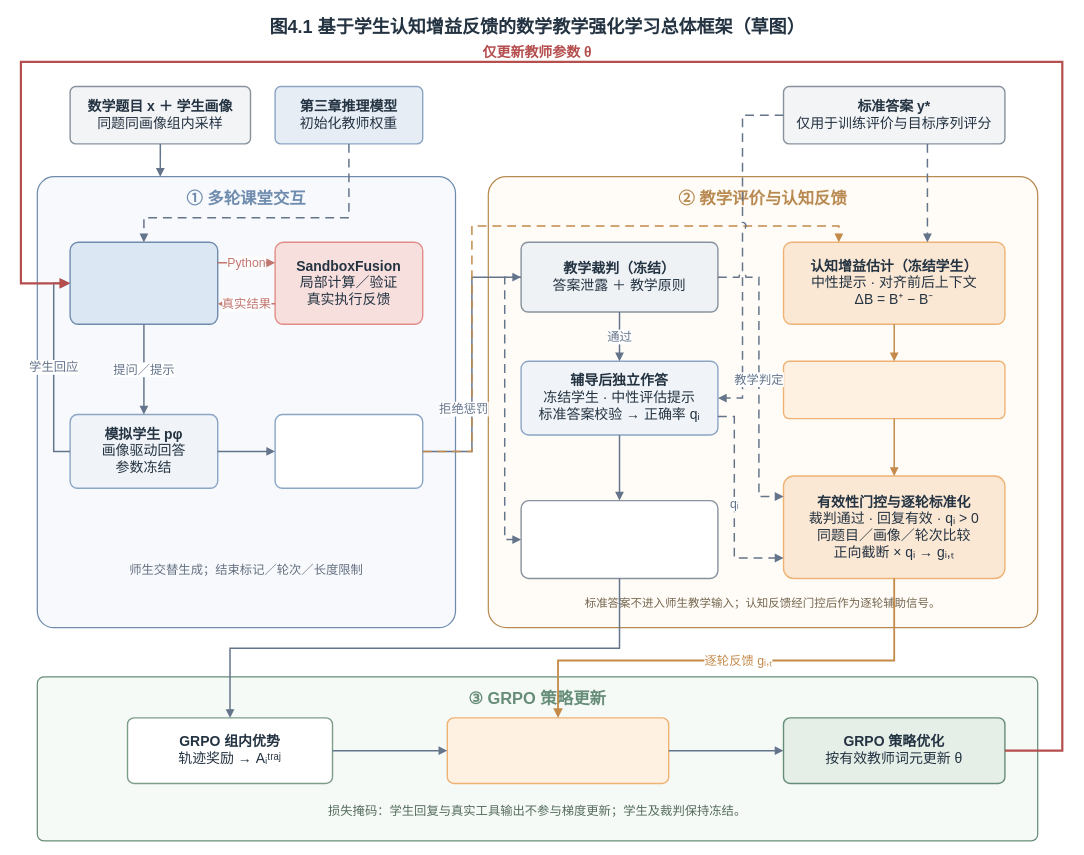
Some shapes in this 1084 by 855 pixel diagram are drawn without their labels. Each missing label, with the centre of its shape:
多轮教学轨迹 τ 对话与真实工具反馈 轮次及有效性标记: the point at 348,451
教师模型 πθ 提问 · 提示 · 纠错 可训练: the point at 143,283
画像噪声校准 d = max(0, ΔB − ηₛ): the point at 893,389
轨迹级奖励 Rᵢ 学生解题表现／违规惩罚 及已启用的回复规则项: the point at 619,539
逐轮优势融合 Aᵢ,ₜ = Aᵢᵗʳᵃʲ ＋ λᴮ gᵢ,ₜ: the point at 557,750
